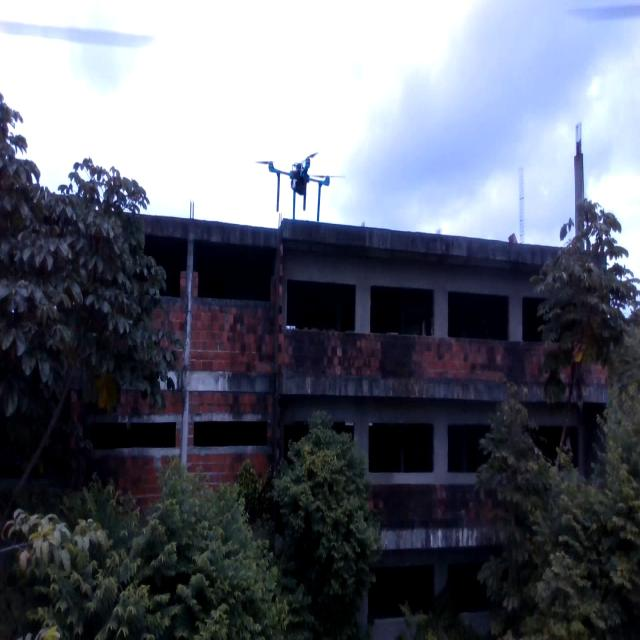-uav-: (252, 144, 342, 235)
